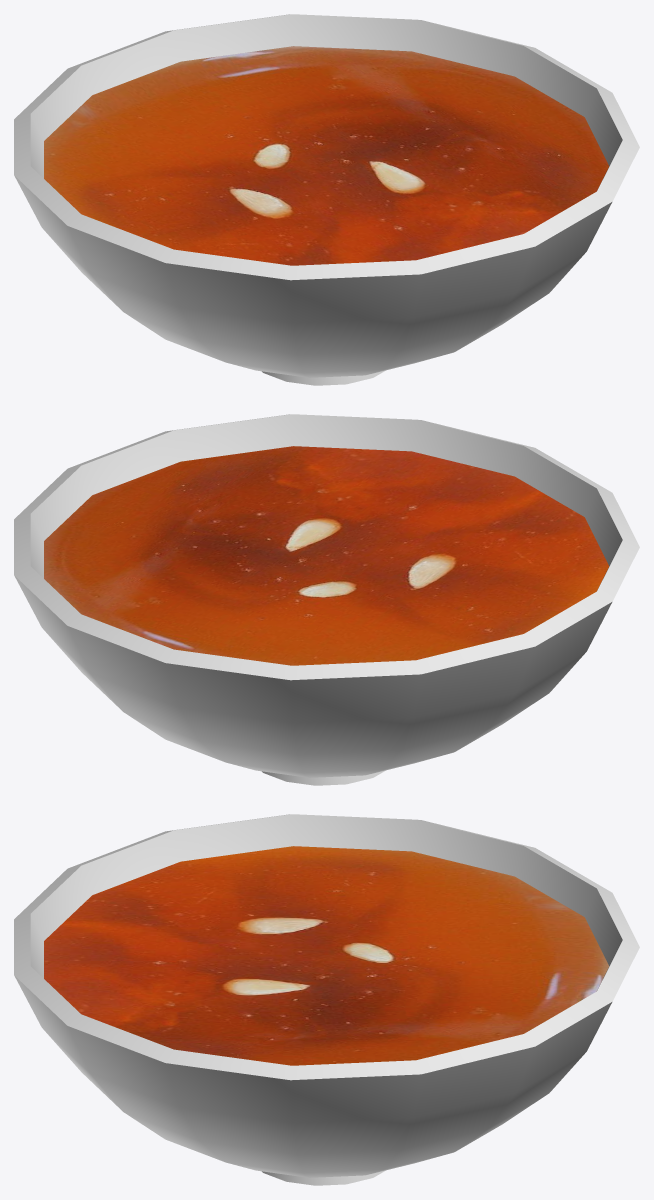
The model's file is Sujeonggwa_.fbx.
The picture shows the model from 3 angles, top to bottom: view 1: azimuth 30°, elevation 25°; view 2: azimuth 150°, elevation 25°; view 3: azimuth 270°, elevation 25°; orthographic projection.
Parts seen in each view (by area): view 1: Sujeonggwa, Dish; view 2: Sujeonggwa, Dish; view 3: Sujeonggwa, Dish.
Boxes of the visible parts, <box> form: Sujeonggwa: <box>44,46,609,265</box>; Dish: <box>14,14,639,385</box>; Sujeonggwa: <box>44,446,609,665</box>; Dish: <box>14,414,639,785</box>; Sujeonggwa: <box>44,846,609,1065</box>; Dish: <box>14,814,639,1185</box>.
Size of the model in its own units: 133 by 51.68 by 132.
Materials: 2 (1 with a texture image).
